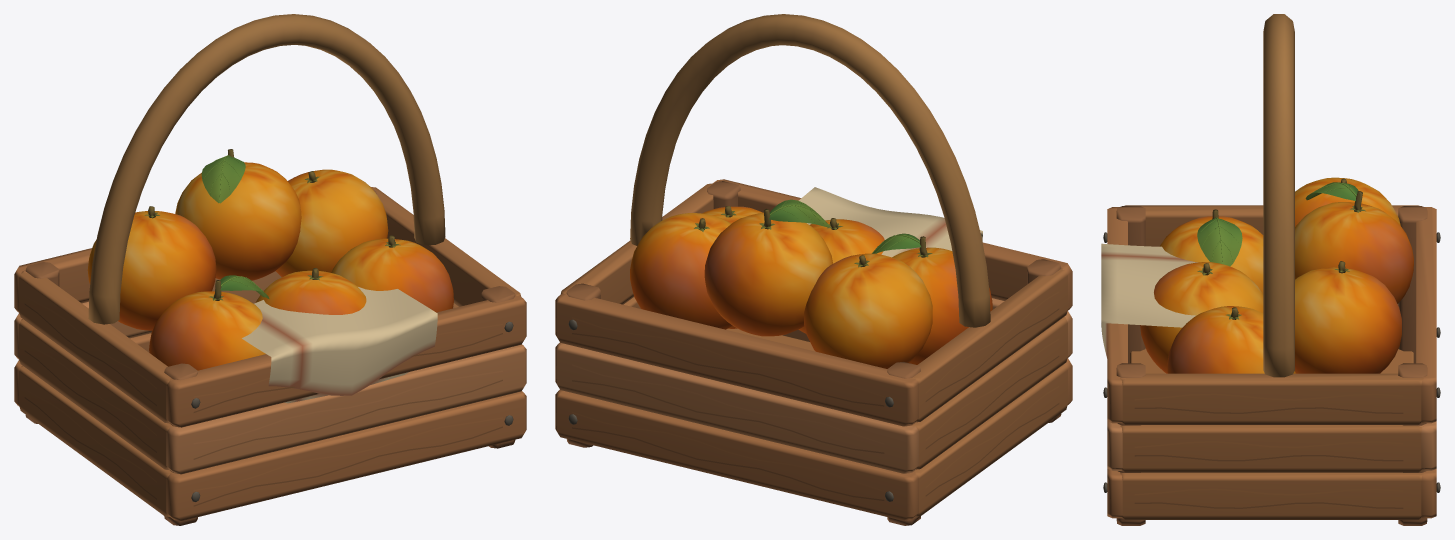
File: orange_basket.glb
3 views of the same model, side by side, from view 1: azimuth 30°, elevation 25°; view 2: azimuth 150°, elevation 25°; view 3: azimuth 270°, elevation 25° (orthographic).
Visible parts, largest first — view 1: Plant; view 2: Plant; view 3: Plant.
Boxes of the visible parts, box(x1,y1,x2,y2) form: Plant: box(14, 14, 526, 525); Plant: box(555, 14, 1072, 525); Plant: box(1101, 14, 1440, 525).
Size of the model in its own units: 0.7034 by 0.7674 by 0.5714.
